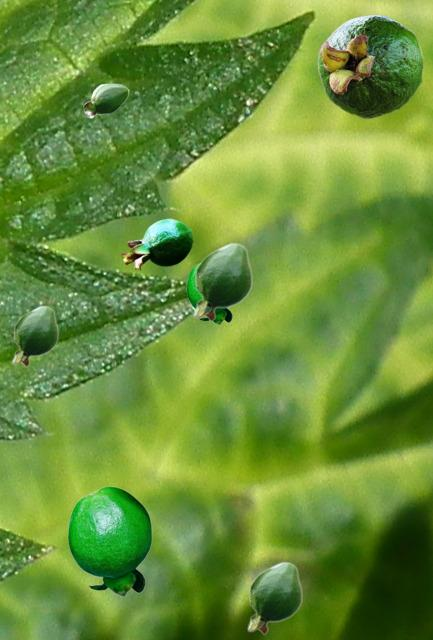guava: (317, 14, 423, 118), (67, 486, 151, 595), (193, 242, 251, 321), (247, 561, 301, 634), (121, 218, 192, 269), (186, 263, 233, 323), (12, 305, 57, 366), (83, 83, 128, 117)
